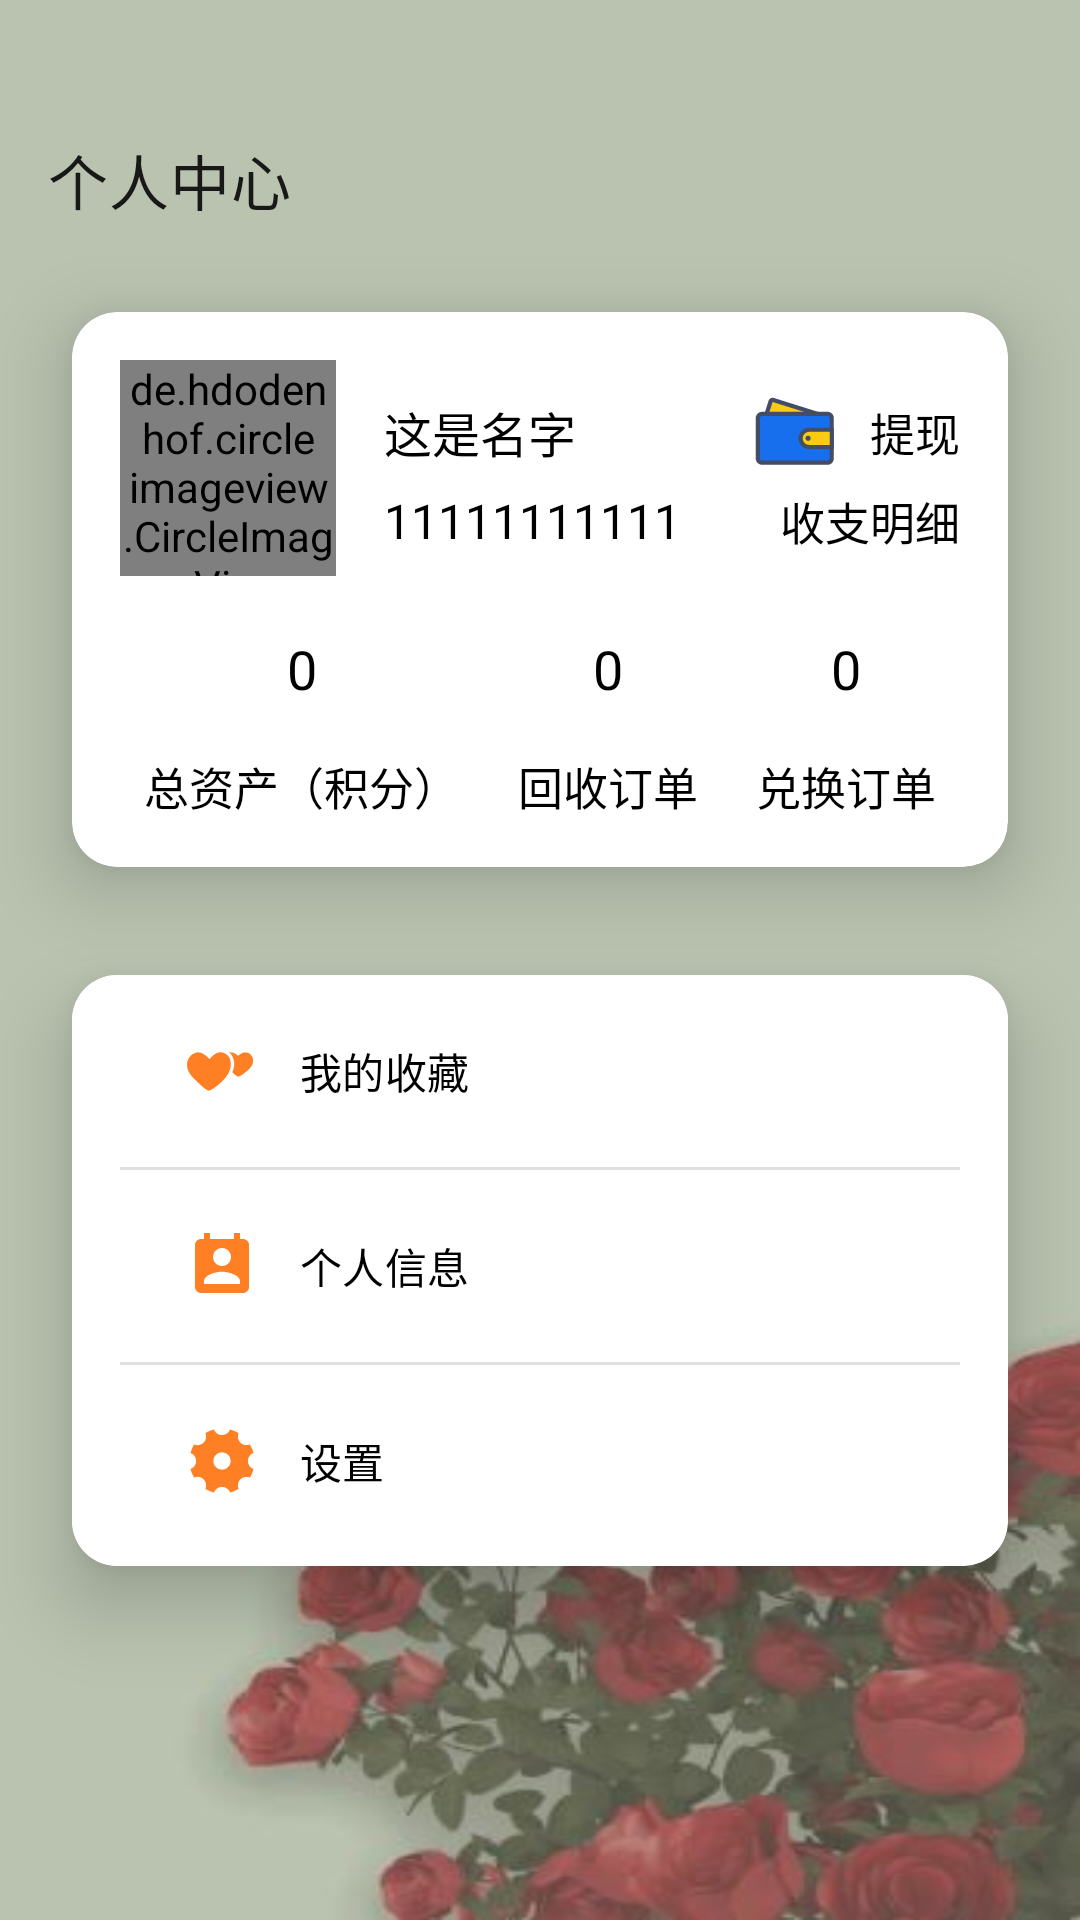

Icons on this 1080 x 1920 Android screen, each with the point to tap as point (x, y):
wallet: point (794, 431)
